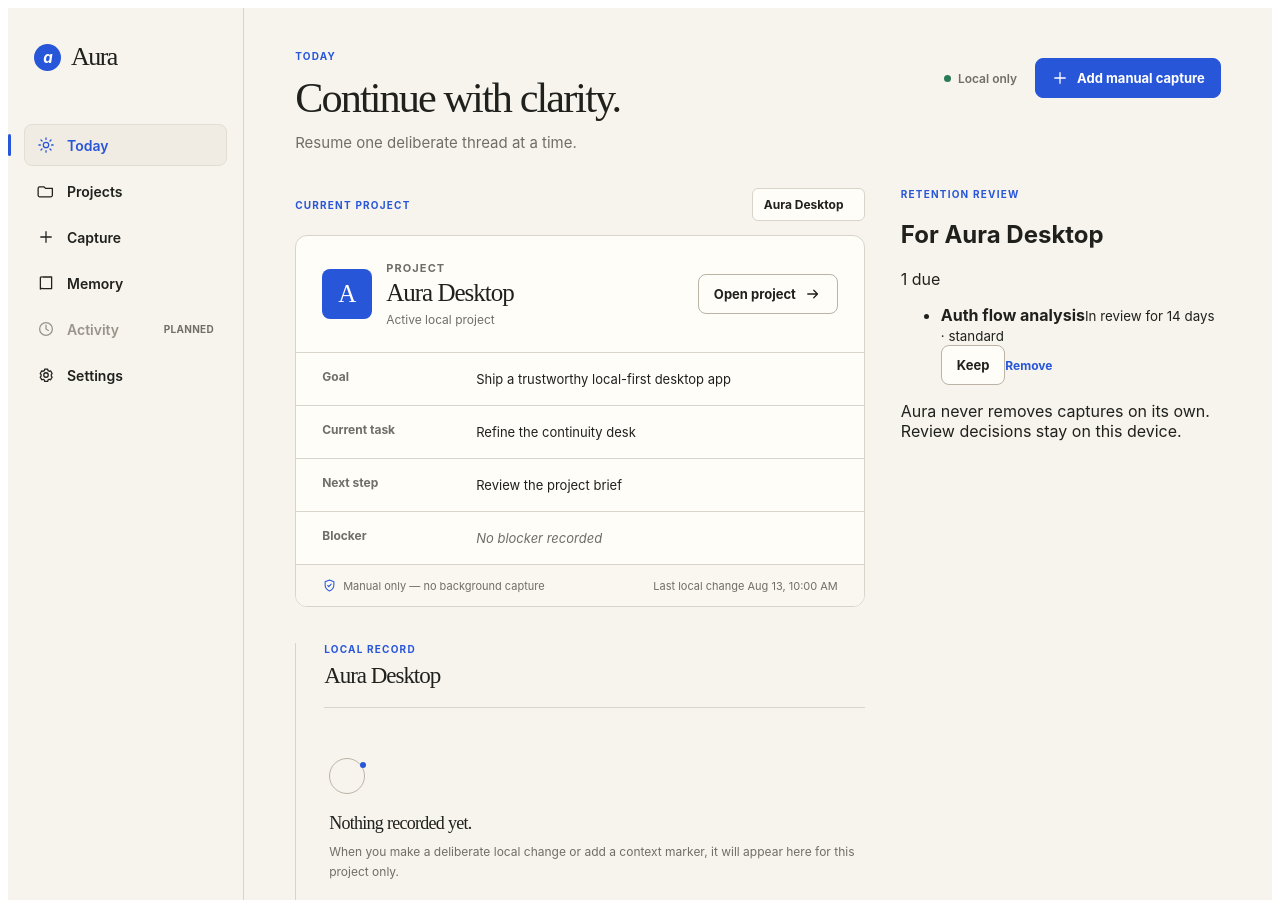
Aura retention review (EXP-003) › deliberately removes an aged capture after explicit confirmation
Expected: the text "Auth flow analysis" is shown, [941,305,1085,325]
Click the button with aria-label "Remove Auth flow analysis from the local workspace" at {"x": 1029, "y": 366}, box [1005,358,1052,373]
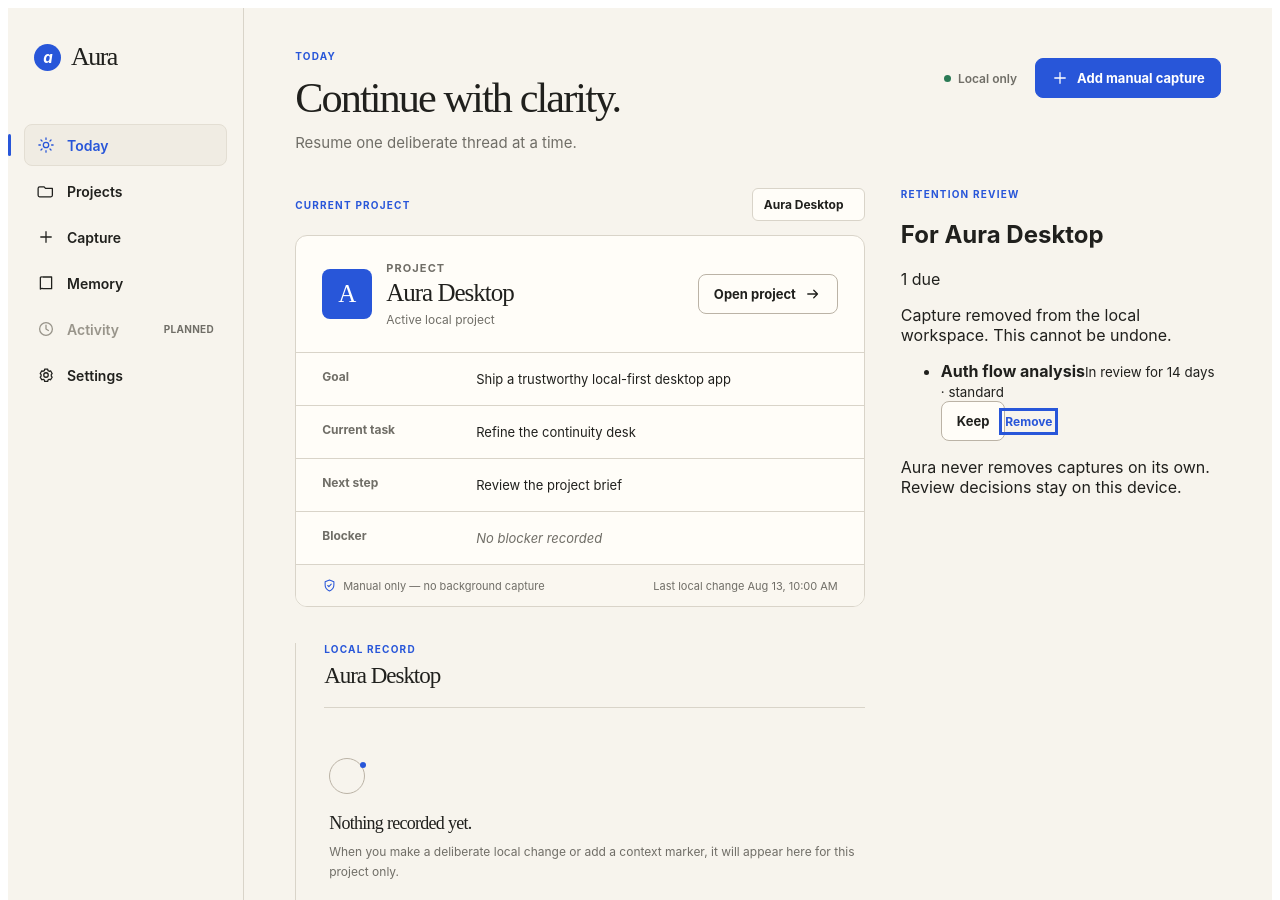
Expected: the text "removed from the local workspace" is shown, [901,305,1172,345]
